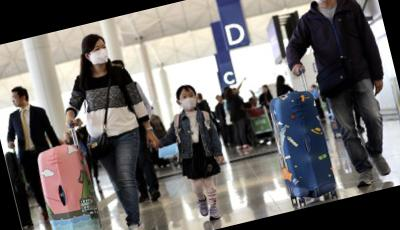with_mask: (88, 41, 111, 68), (179, 89, 199, 112)
without_mask: (10, 92, 23, 107)
